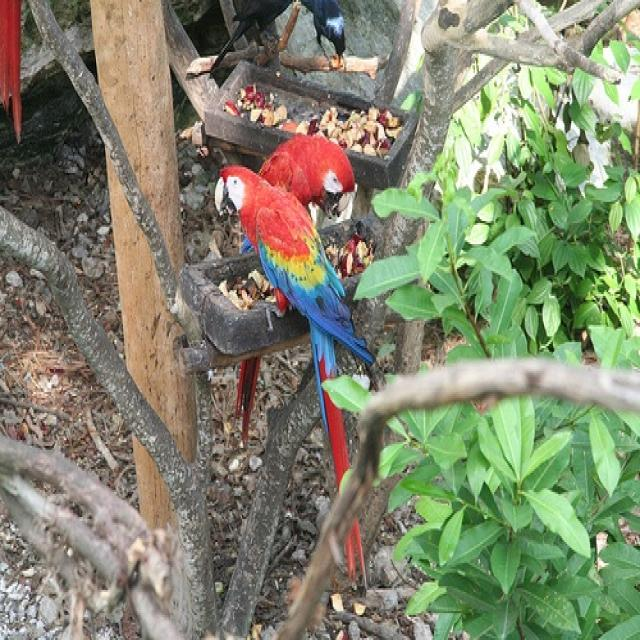bird: (212, 163, 368, 582), (235, 133, 358, 434)
